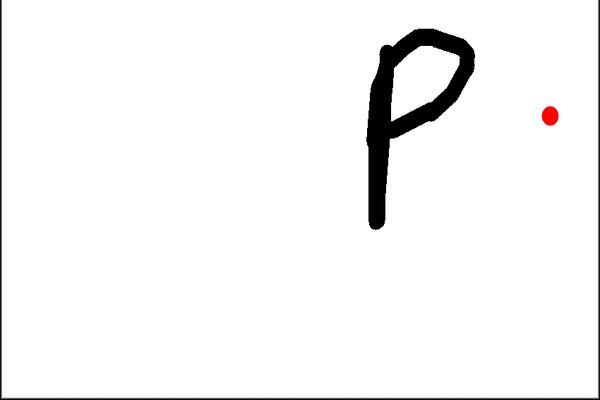P: (349, 17, 482, 235)
